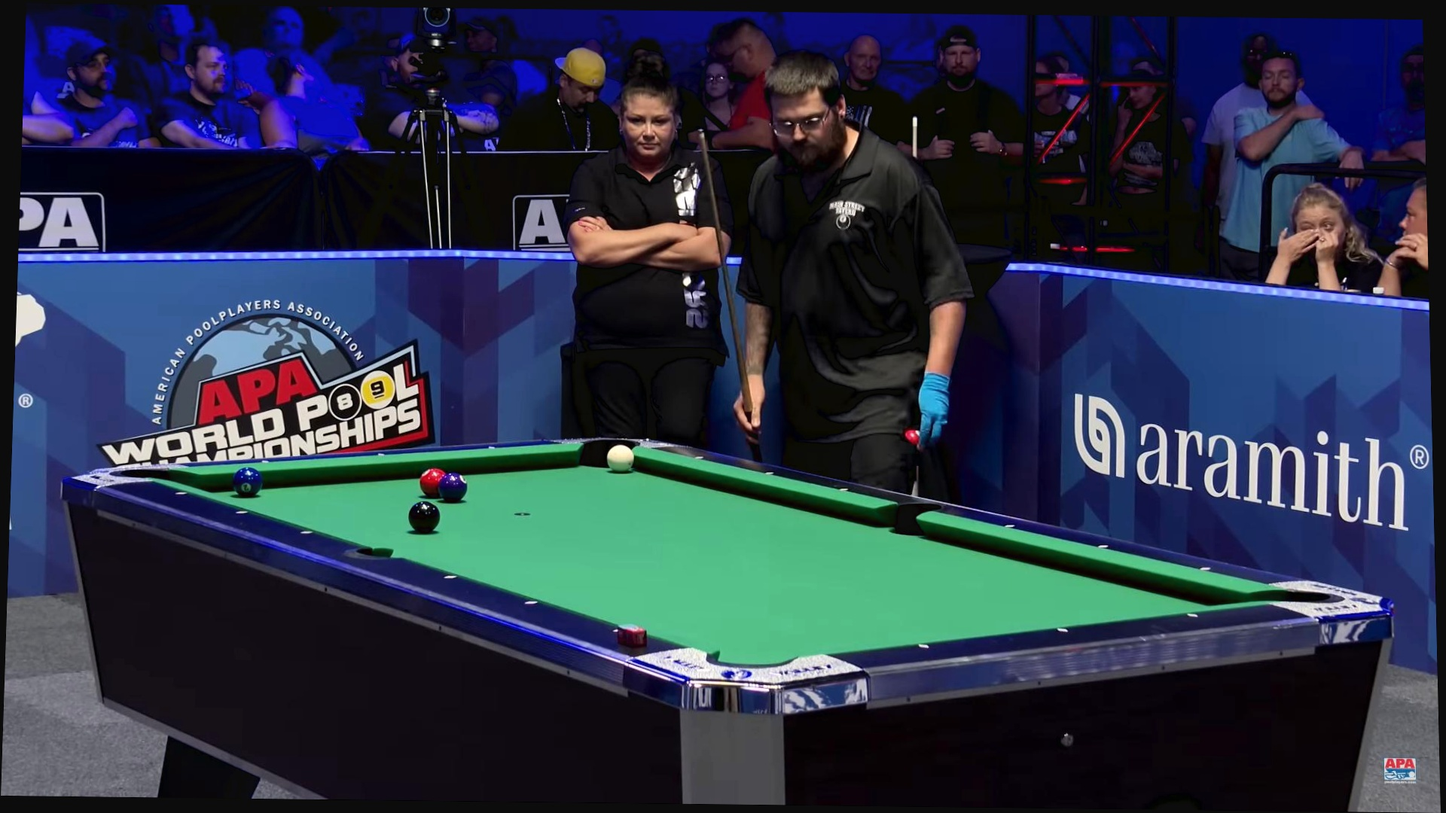Black: (609, 625, 626, 636), (298, 527, 315, 538), (256, 456, 273, 467), (373, 449, 390, 460), (484, 442, 501, 453), (692, 452, 709, 463), (761, 468, 778, 479), (836, 484, 853, 495), (1094, 541, 1111, 552), (1185, 609, 1202, 620), (1055, 624, 1072, 635), (915, 640, 932, 651), (523, 597, 539, 608), (442, 571, 458, 582), (233, 507, 249, 518), (172, 488, 188, 499), (1001, 520, 1017, 531), (1197, 564, 1213, 575)
Cue: (232, 467, 263, 498), (438, 471, 467, 502), (419, 468, 446, 499)
Solid: (409, 501, 440, 534)
Stripe: (607, 445, 635, 473)
